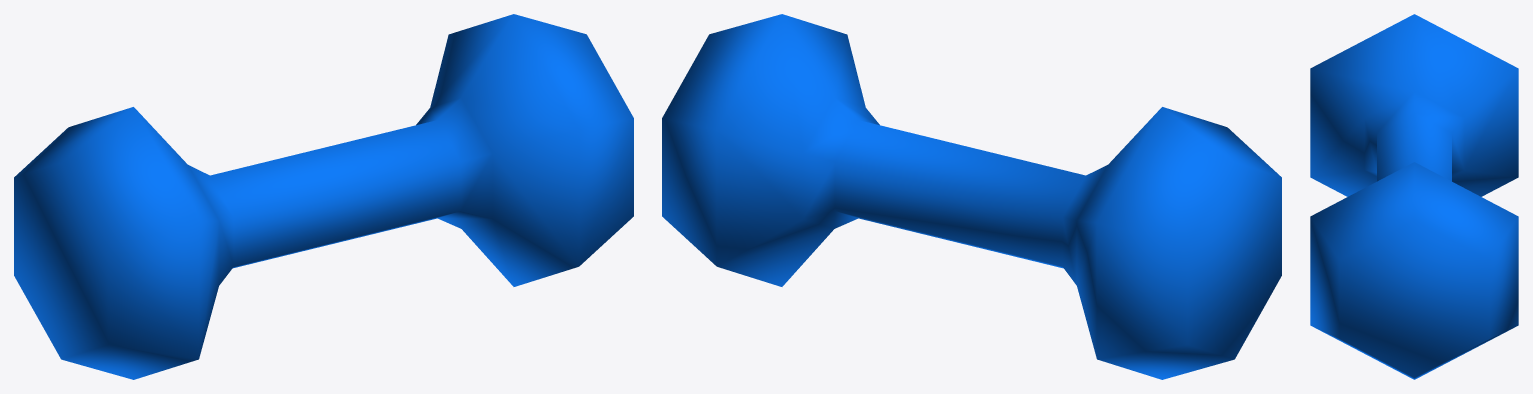
The model's file is Weight_08.FBX.
3 renders of one model, left to right at view 1: azimuth 30°, elevation 25°; view 2: azimuth 150°, elevation 25°; view 3: azimuth 270°, elevation 25°, orthographic. The views are drawn at different scales.
Parts seen in each view (by area): view 1: Weight; view 2: Weight; view 3: Weight.
Part boxes in pixels (bbox=[...]): Weight: bbox=[14, 14, 633, 379]; Weight: bbox=[662, 14, 1281, 379]; Weight: bbox=[1310, 14, 1518, 379].
Size of the model in its own units: 78.32 by 38.91 by 33.69.
